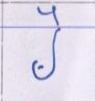ai_matra: (37, 4, 64, 26)
